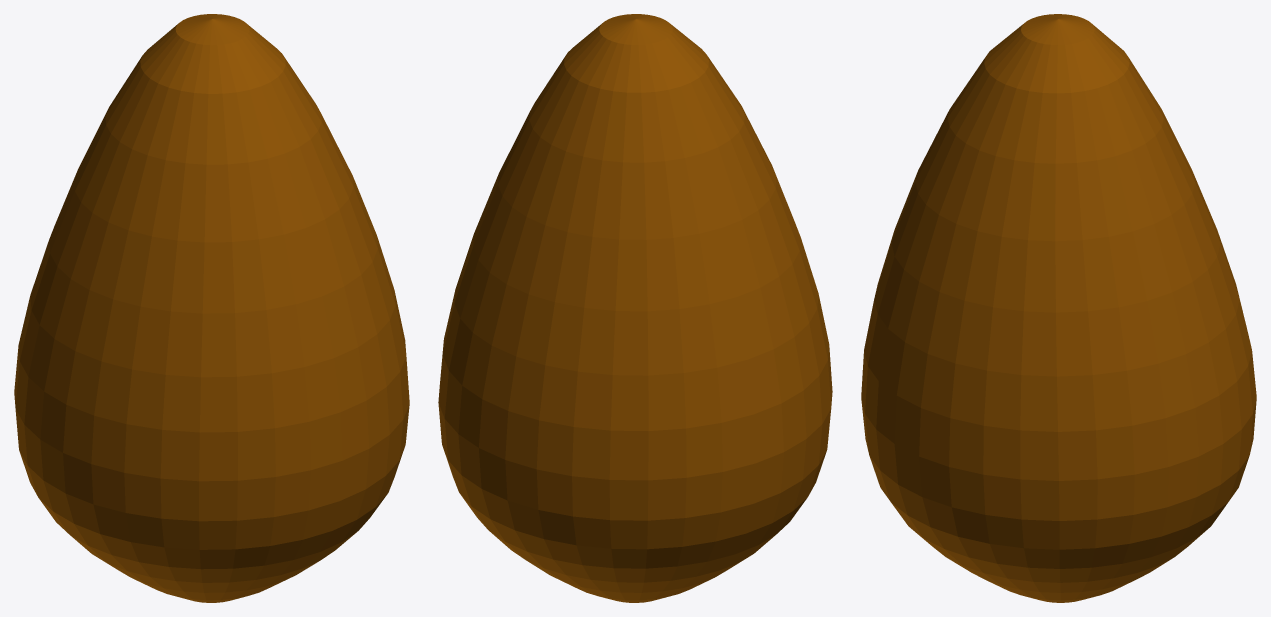
File: seed.fbx
The picture shows the model from 3 angles, left to right: view 1: azimuth 30°, elevation 25°; view 2: azimuth 150°, elevation 25°; view 3: azimuth 270°, elevation 25°; orthographic projection.
Visible parts, largest first — view 1: Sphere; view 2: Sphere; view 3: Sphere.
Part boxes in pixels (x1,y1,x2,y2): Sphere: (14, 14, 409, 602); Sphere: (438, 14, 832, 602); Sphere: (861, 14, 1256, 602).
Size of the model in its own units: 10.59 by 16.99 by 10.59.
